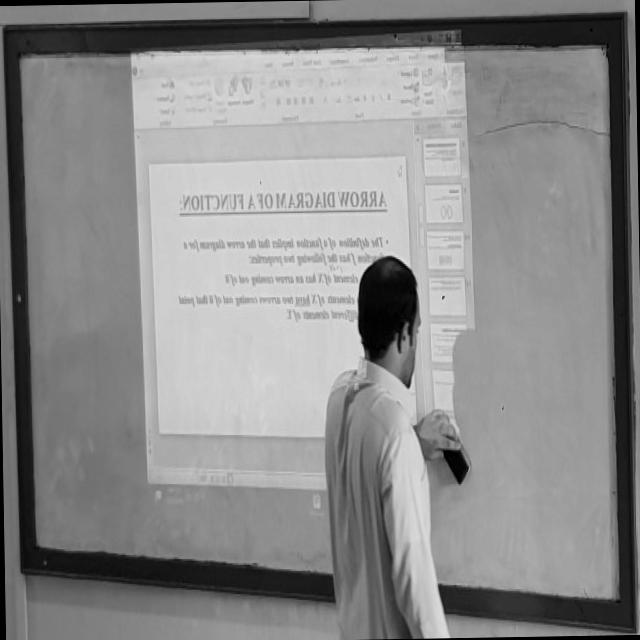Instructor: (320, 259, 456, 640)
Slide: (127, 19, 485, 532)
White-board: (6, 21, 625, 620)
